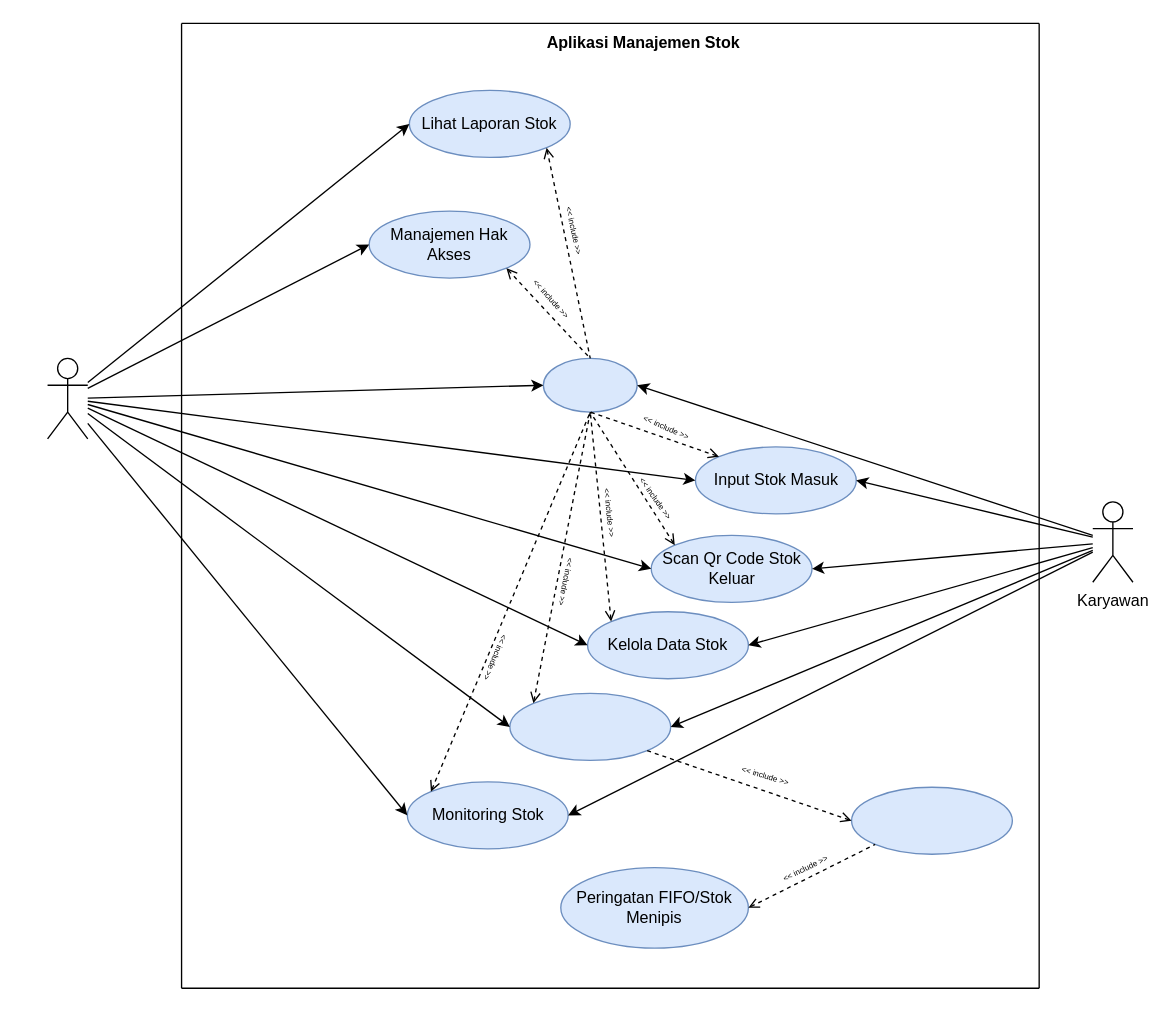
Some shapes in this 1171 by 1013 pixel diagram are drawn without their labels. Each missing label, with the centre of its shape:
Generate Qr Code Batch: point 590,726
Login: point 589,384
Pemilik Toko: point 67,398
Validasi FIFO: point 931,820
